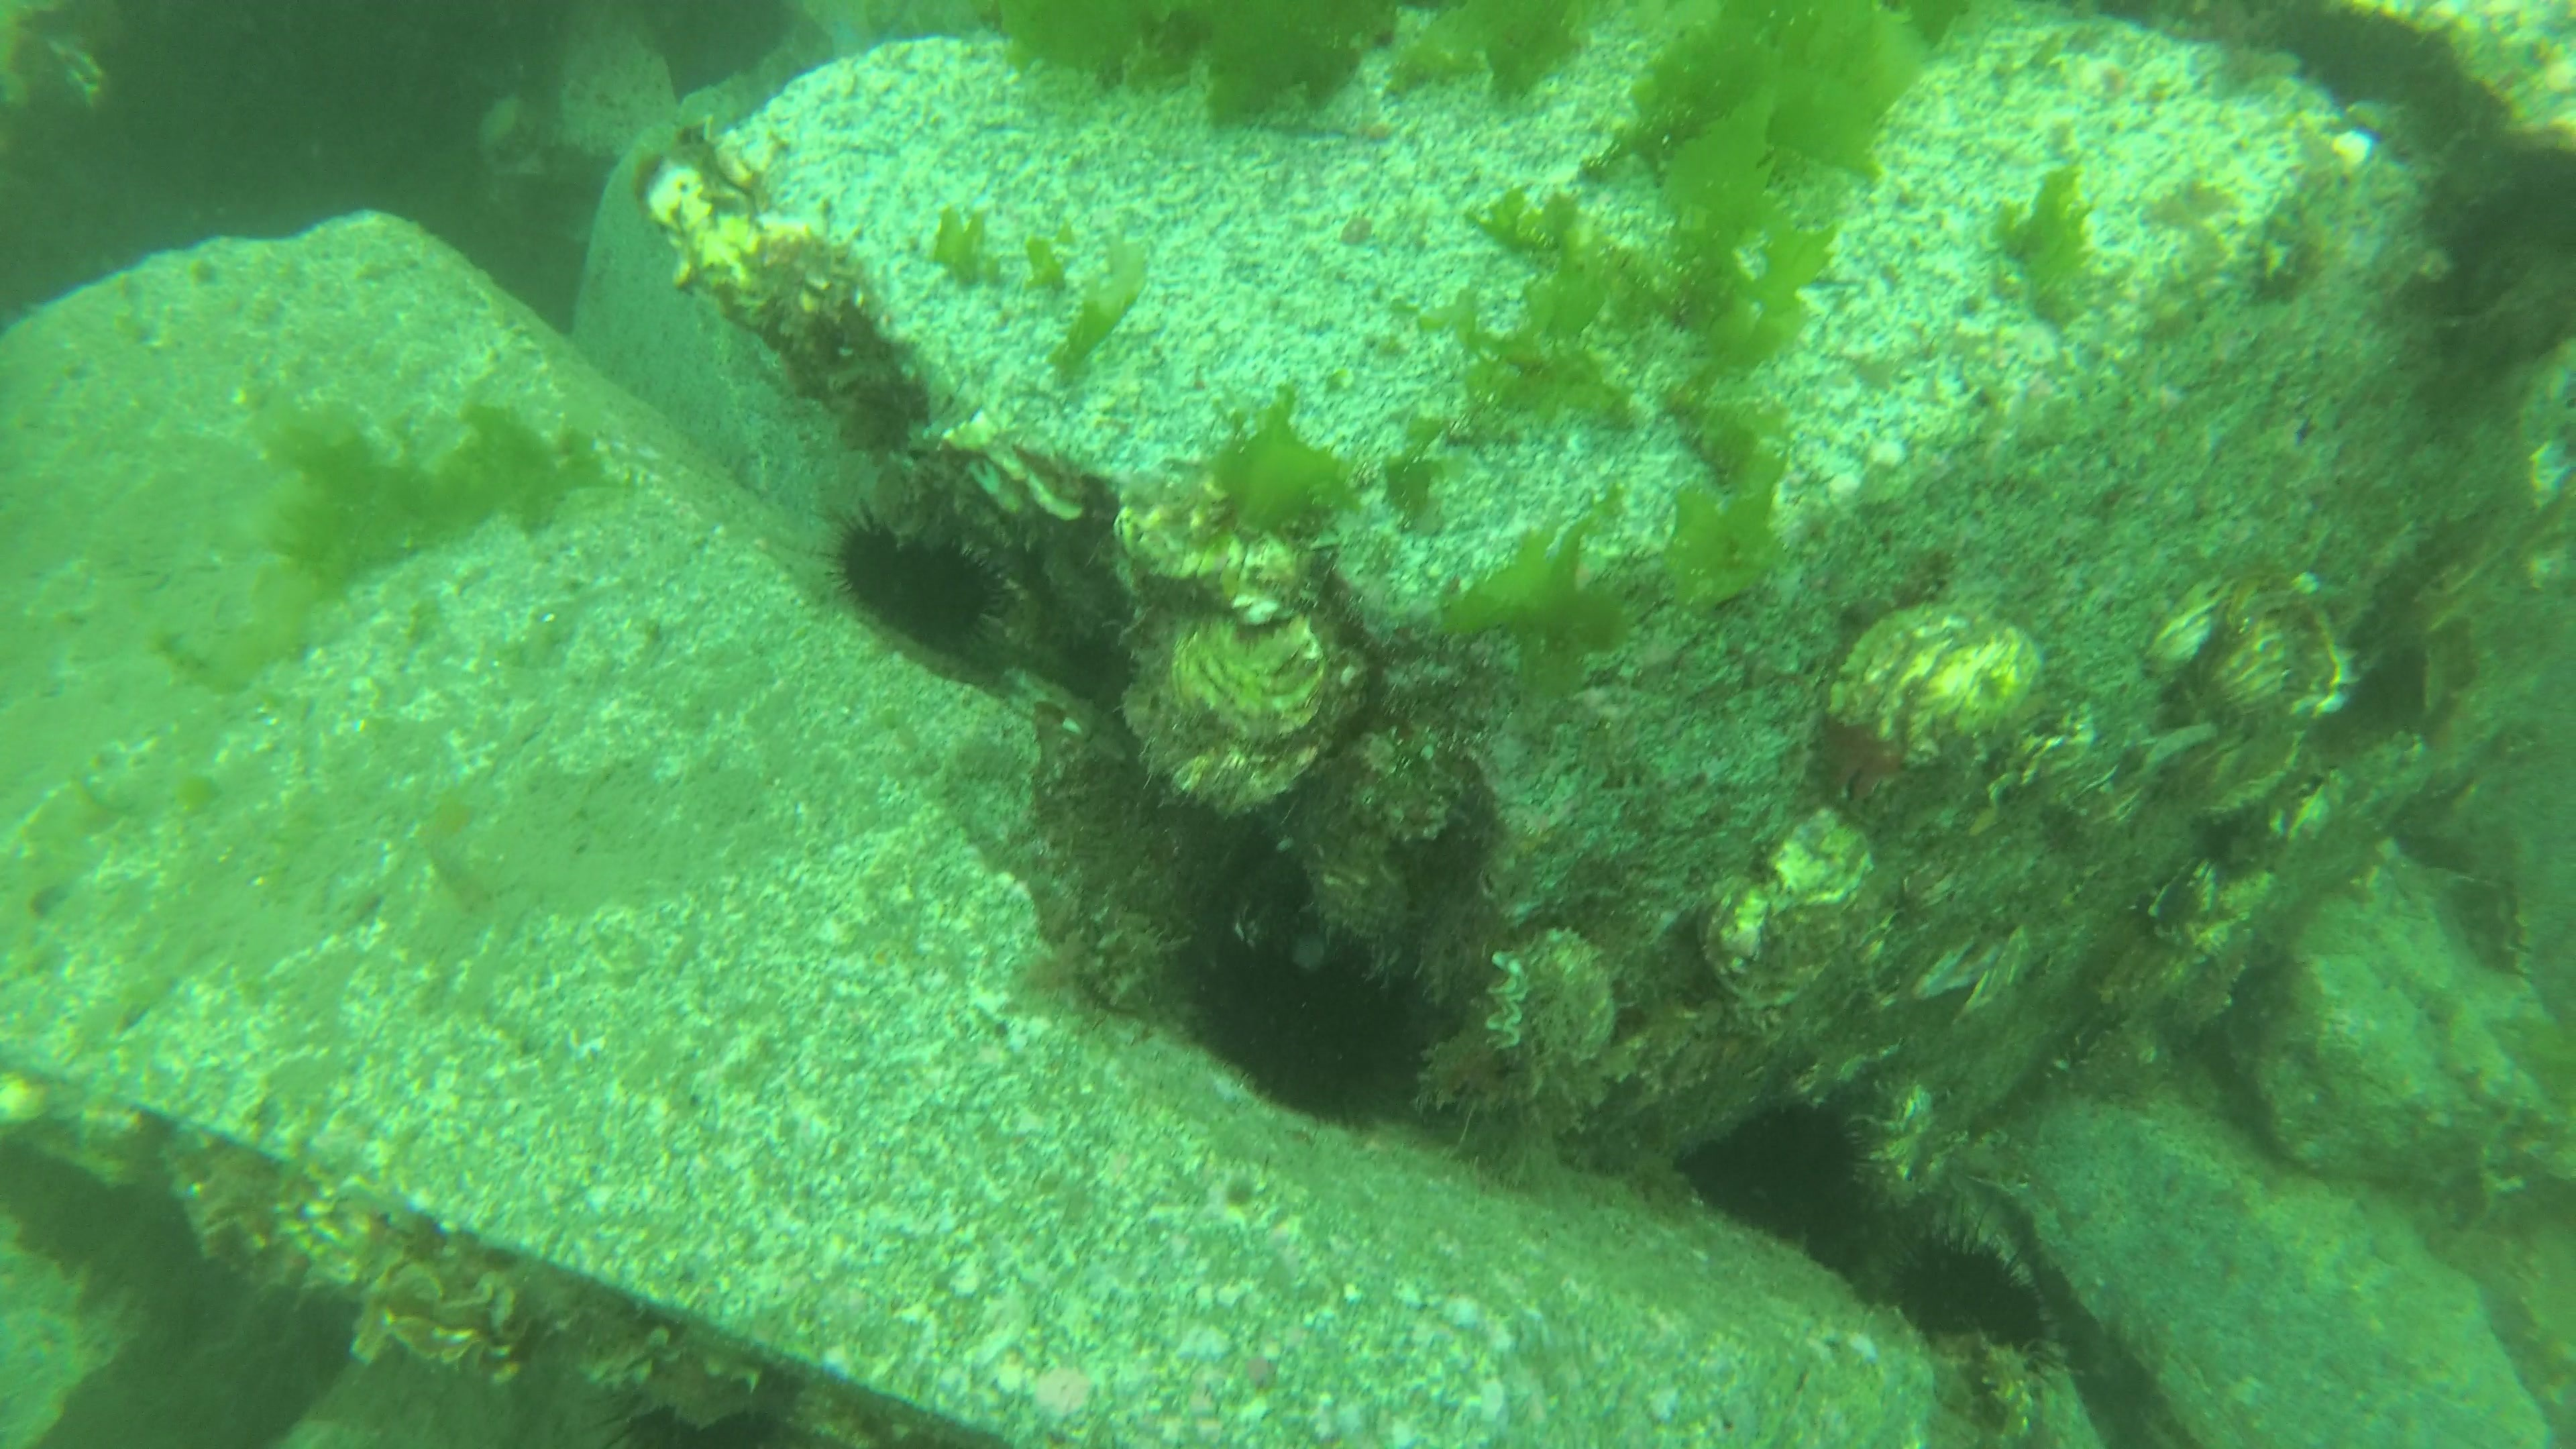echinus: (1198, 918, 1401, 1127), (1872, 1201, 2079, 1385), (814, 499, 1023, 658), (1720, 1097, 1881, 1233), (579, 1380, 782, 1449)
